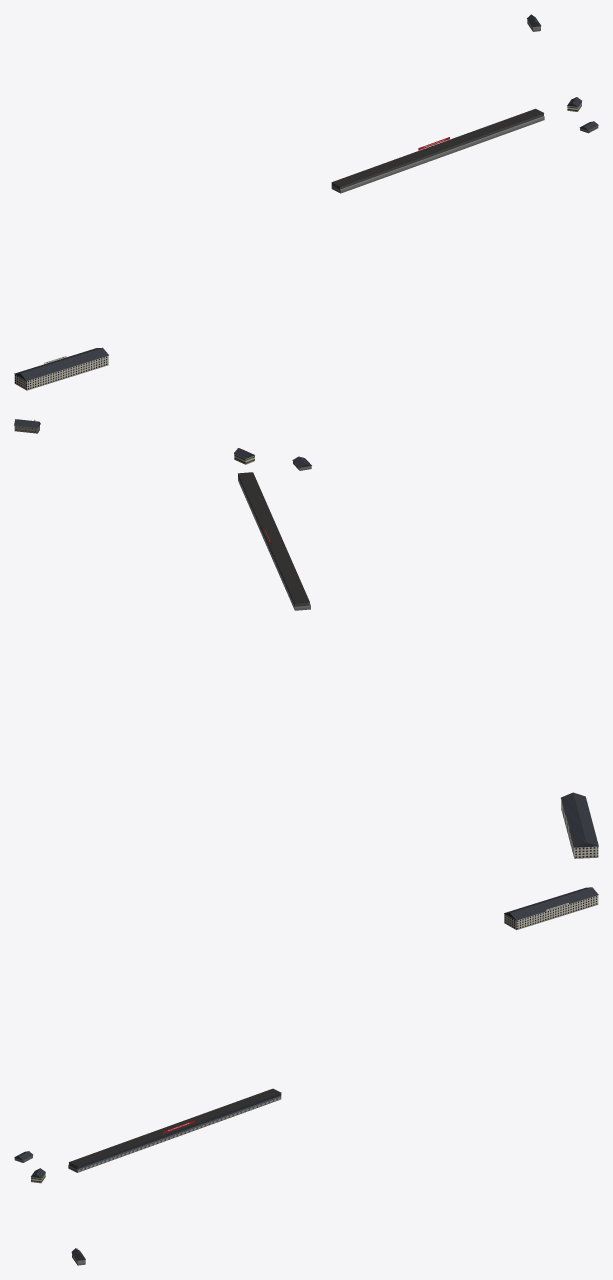
Rendered from spa.glb.
3 renders of one model, top to bottom at view 1: azimuth 90°, elevation 25°; view 2: azimuth 150°, elevation 25°; view 3: azimuth 270°, elevation 25°, orthographic. The views are drawn at different scales.
Visible parts, largest first — view 1: roof.003, ground, roof.004, upper; view 2: roof.003, roof.004; view 3: roof.003, roof.004, band.
Part boxes in pixels (x1,y1,x2,y2): roof.003: (331,108,543,186); ground: (331,116,544,193); roof.004: (14,347,108,380); upper: (331,113,543,189); roof.003: (238,472,309,603); roof.004: (561,792,598,847); roof.003: (69,1088,281,1166); roof.004: (504,887,598,920); band: (77,1093,281,1168).
Size of the model in its own units: 997 by 17.4 by 669.
21 materials, 21 textured.
